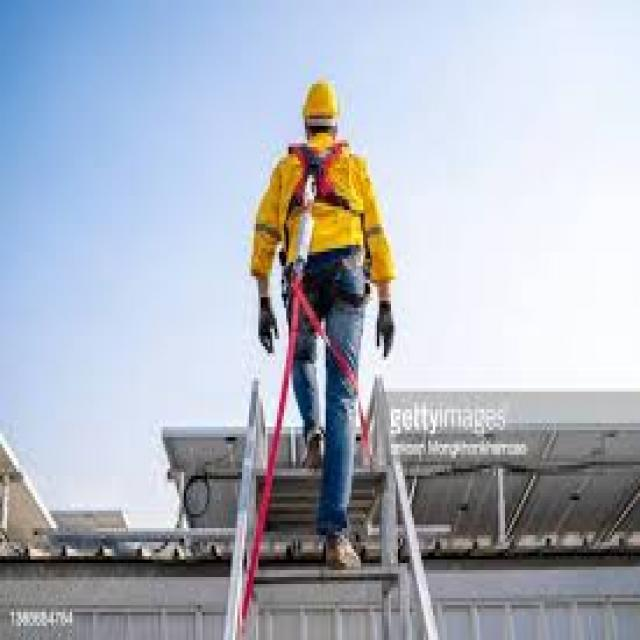belt: (280, 129, 370, 323)
